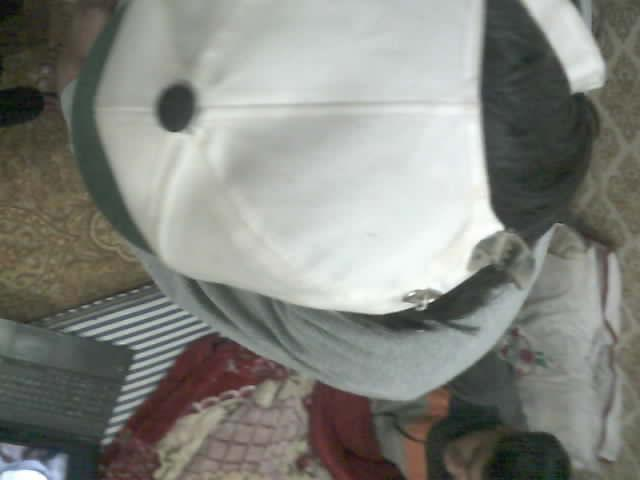cap: (64, 0, 606, 316)
